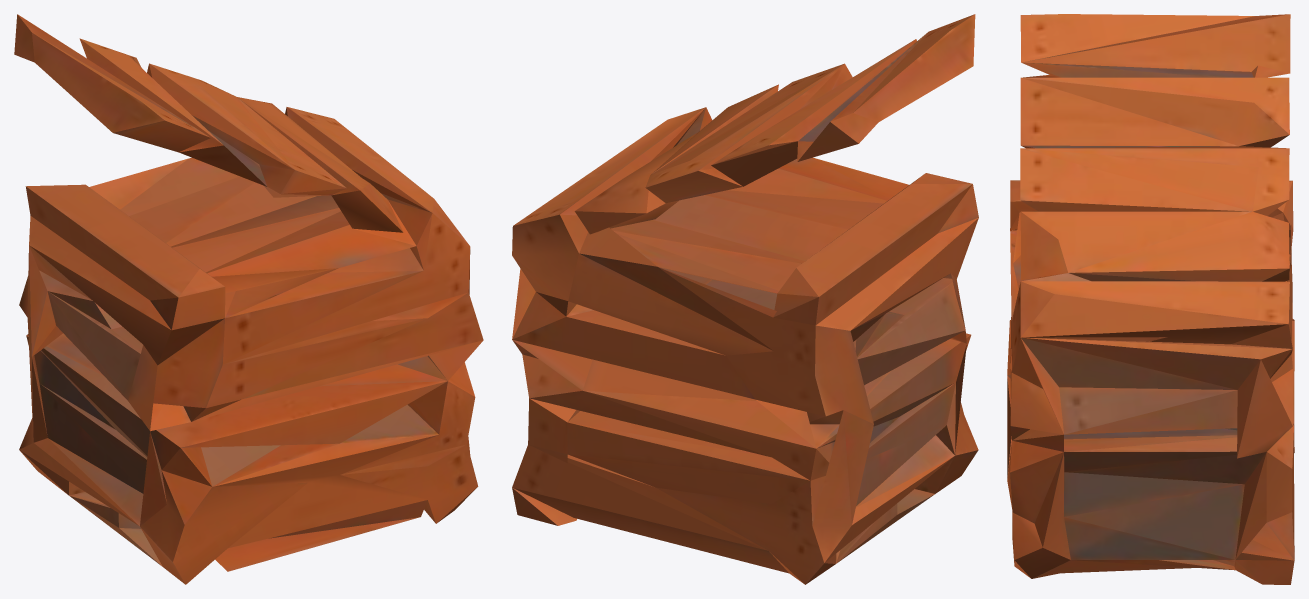
Rendered from ramp.glb.
3 renders of one model, left to right at view 1: azimuth 30°, elevation 25°; view 2: azimuth 150°, elevation 25°; view 3: azimuth 270°, elevation 25°, orthographic. The views are drawn at different scales.
Bounding box in the file's own units: 1.51 × 1.89 × 1.14.
Materials: 1 (1 with a texture image).
